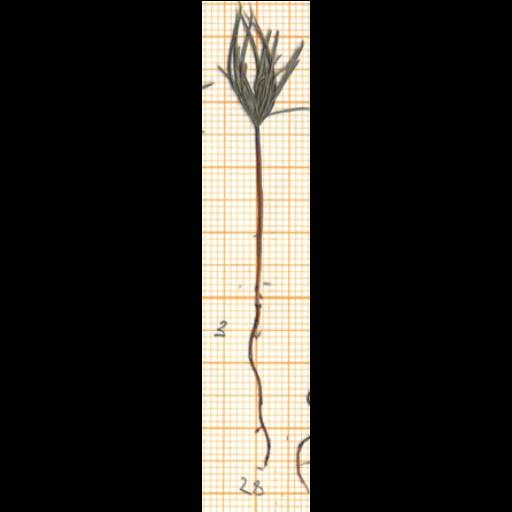flowerPinus: (227, 1, 305, 126)
rootPinus: (247, 291, 273, 467), (295, 435, 309, 492)
stemPinus: (255, 128, 262, 304)
